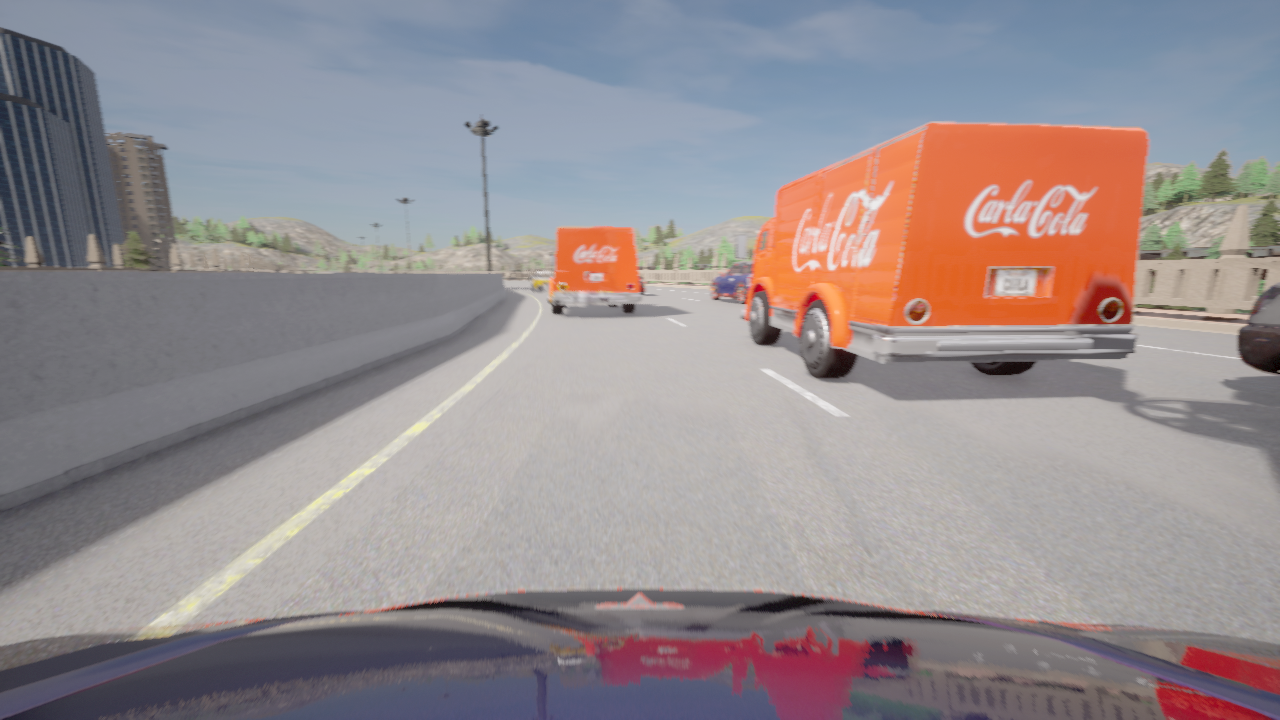cyclist: (0, 588, 1279, 719), (735, 122, 1148, 378), (548, 227, 641, 314), (1238, 283, 1279, 374), (710, 261, 753, 304), (531, 271, 552, 291), (638, 272, 645, 295)
